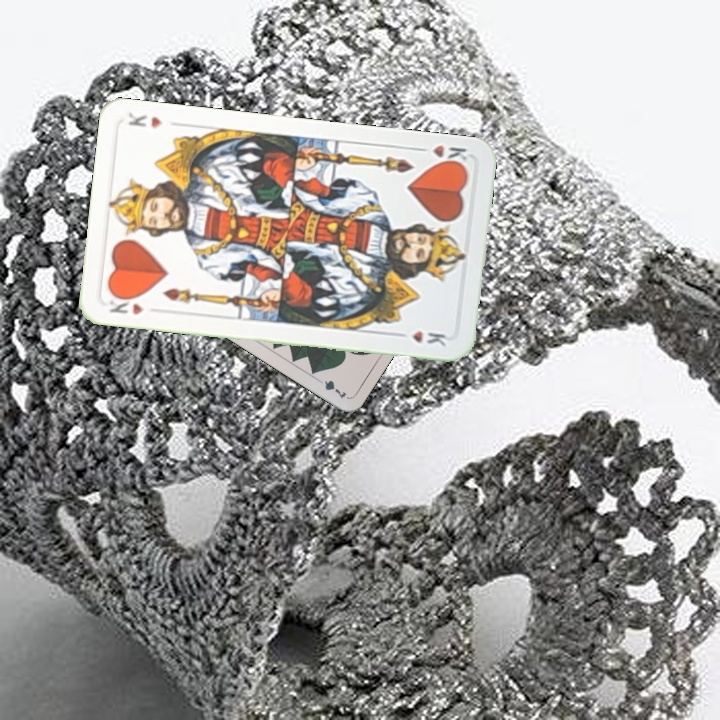HK: (412, 141, 470, 170), (105, 291, 146, 318)
